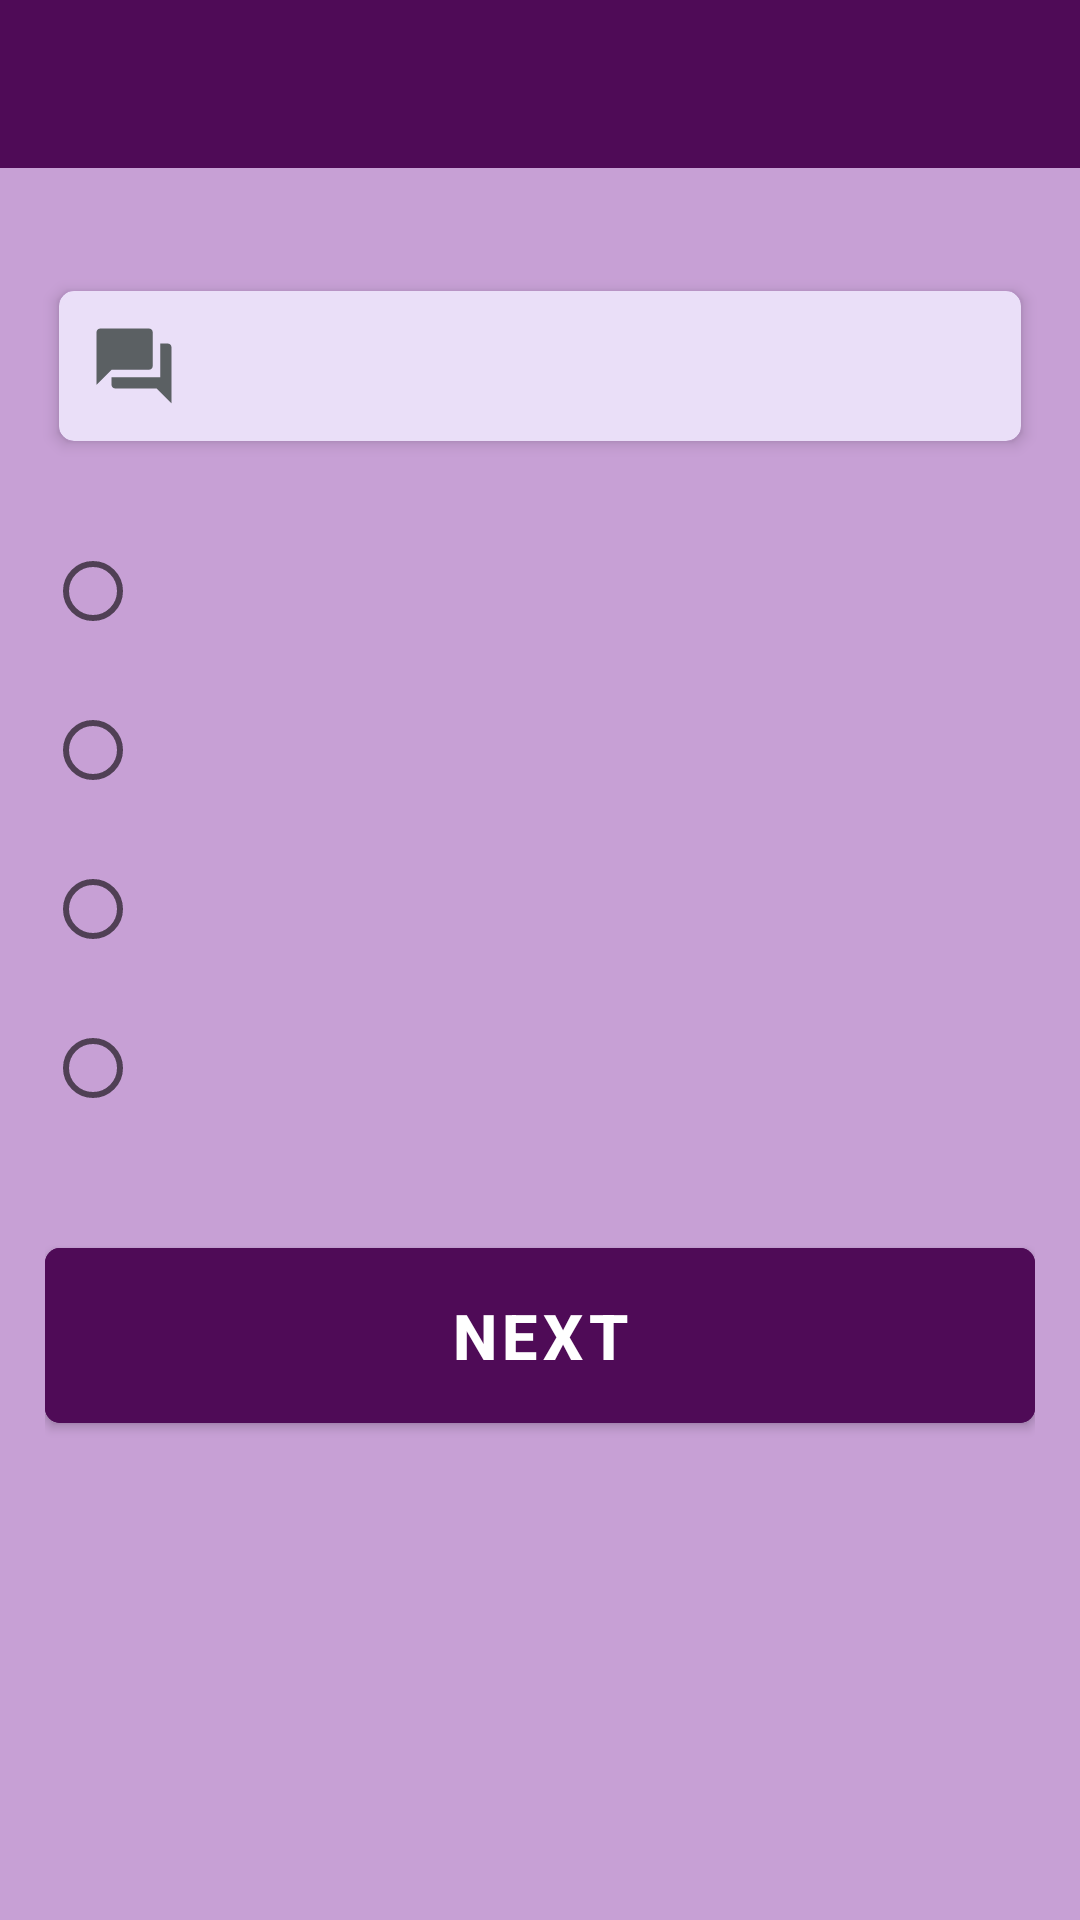

Point at icon controls on the screen. Image size 1080px x 1920px, points as point (x, y).
question answer: point (134, 365)
